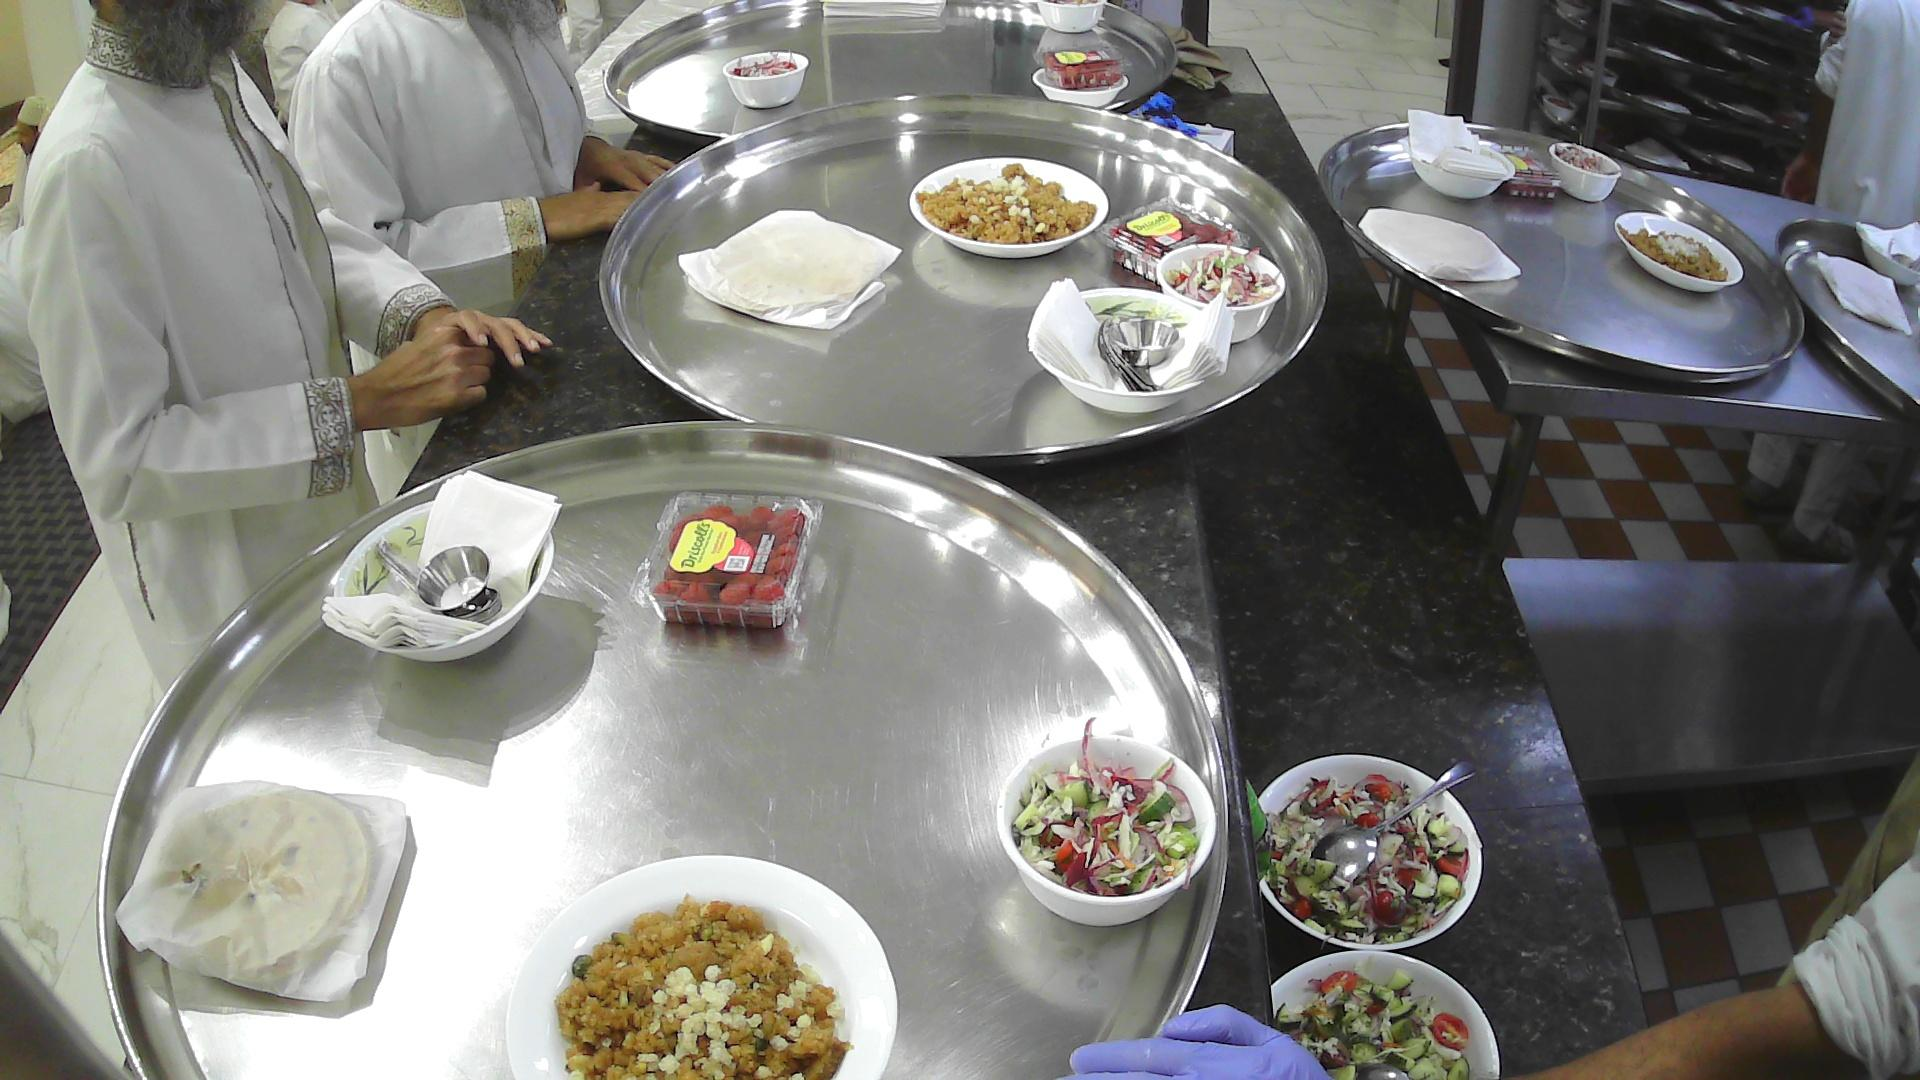thaal: (94, 414, 1240, 1080), (596, 94, 1333, 479), (1316, 119, 1805, 390), (601, 0, 1180, 146), (1771, 215, 1920, 438)
